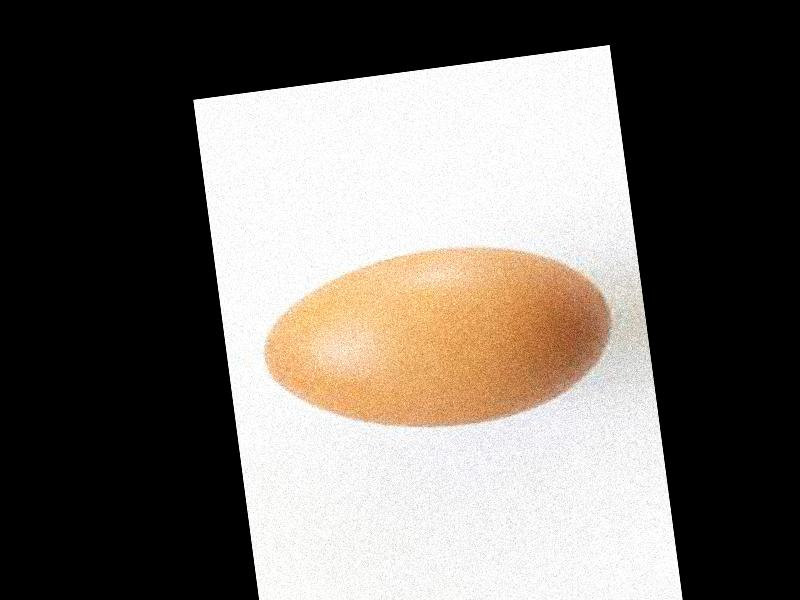Eggs: (253, 229, 620, 449)
